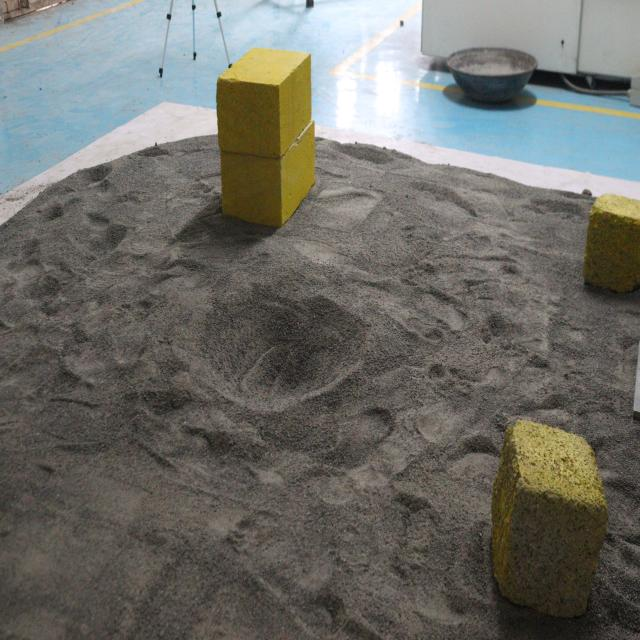box: (486, 420, 602, 619), (214, 43, 322, 229), (581, 184, 640, 296)
crater: (172, 279, 381, 413)
